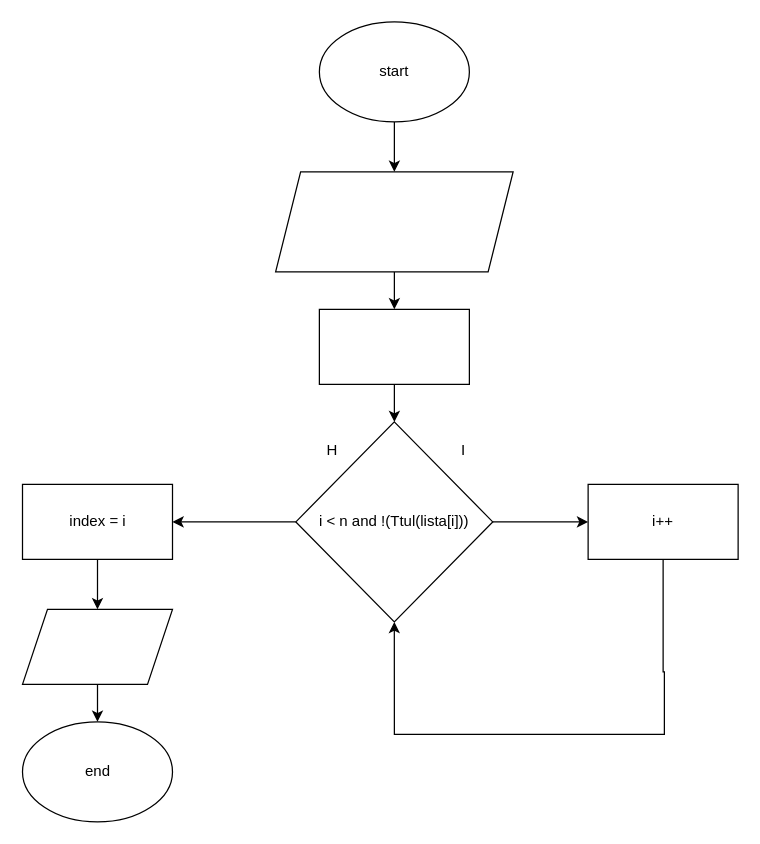
Image size: 760x844. Some labels were removed from this diagram. Here are the shapes that lost their labels. From the top down, the box of each, then its label:
(274, 171, 513, 272): be: lista = [] , n:egész , Ttul()
(318, 308, 469, 384): i = 0
(21, 608, 172, 684): ki: index
